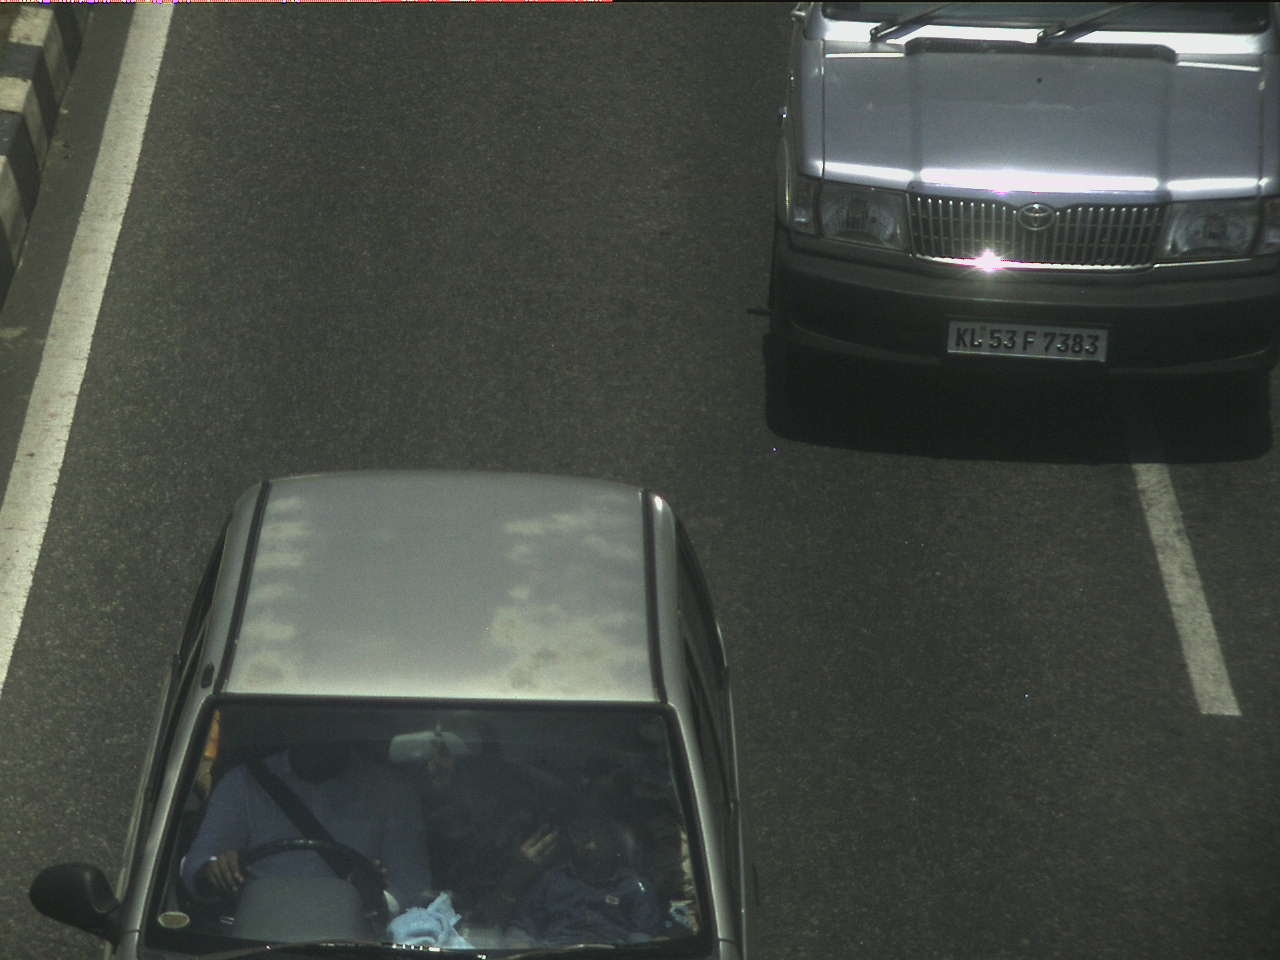car: (773, 3, 1278, 398)
numberplate: (941, 320, 1114, 364)
